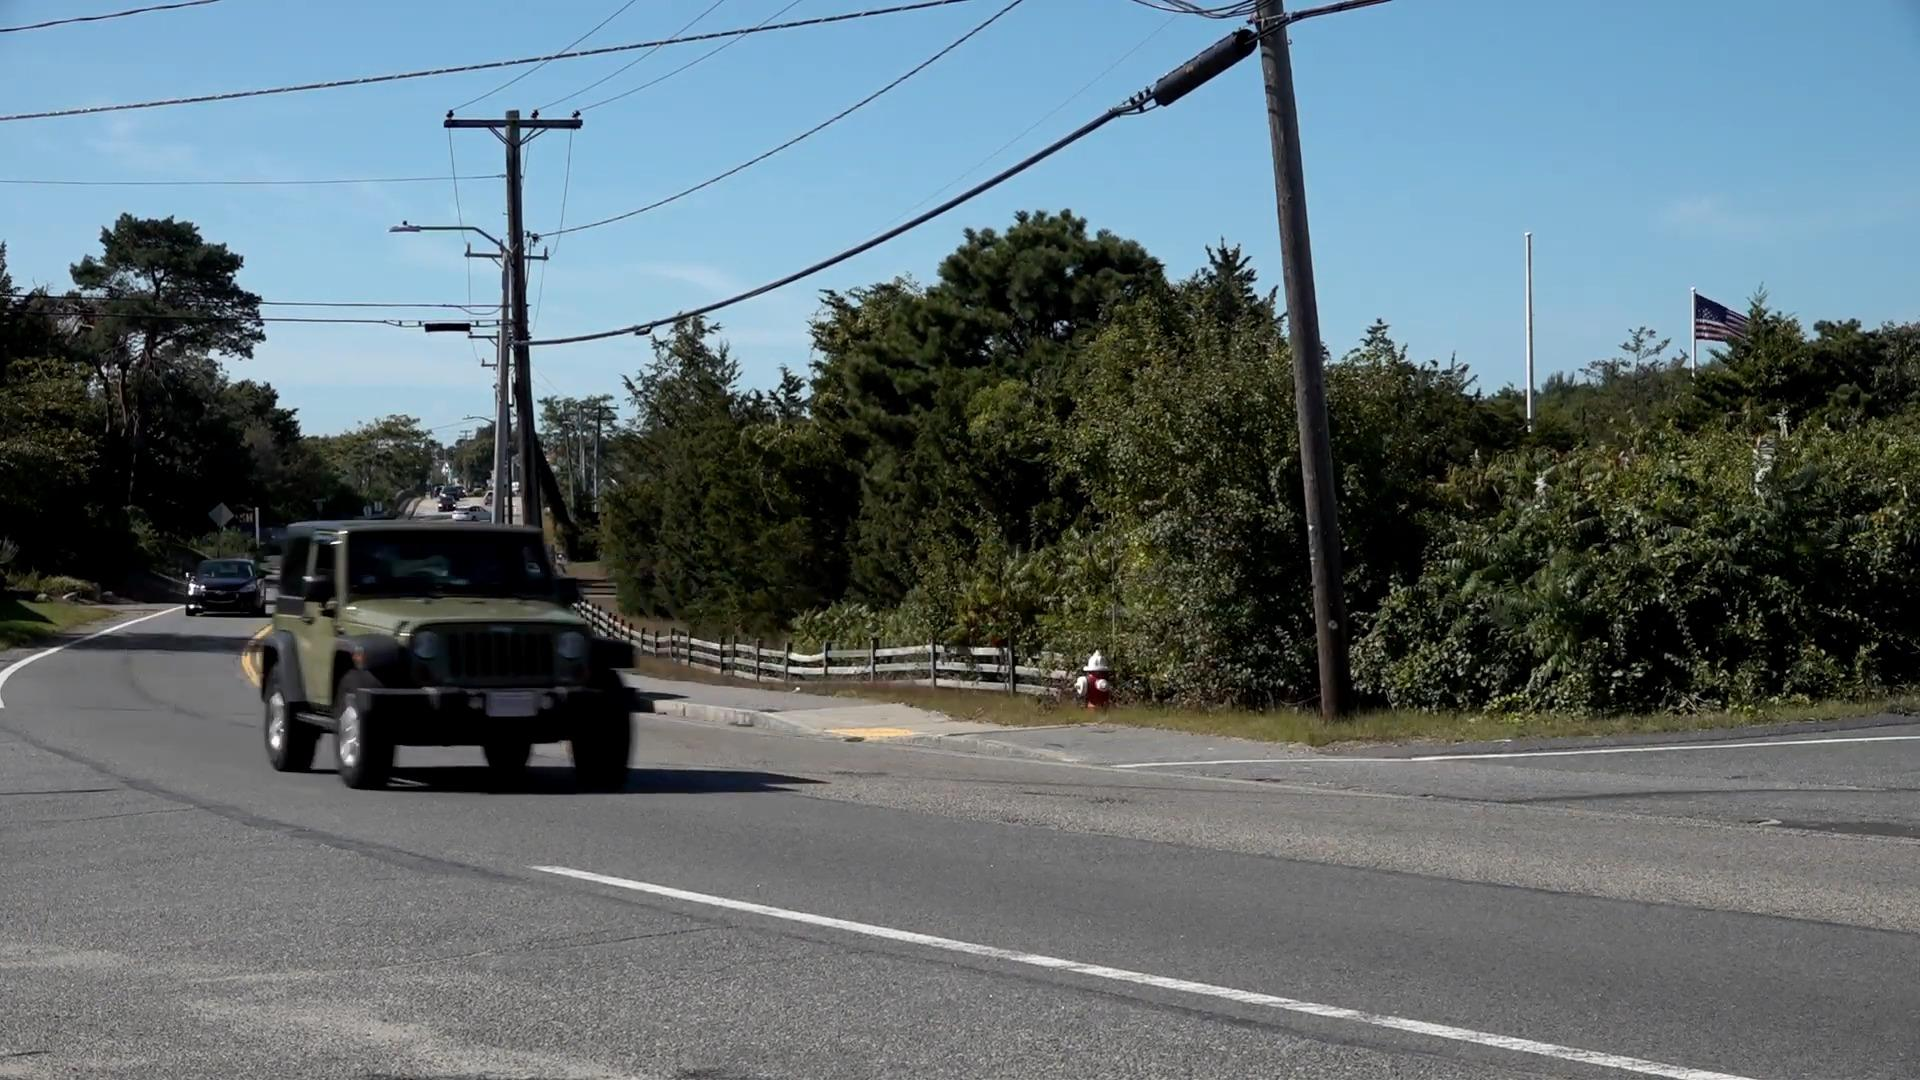suv: (260, 513, 639, 789)
